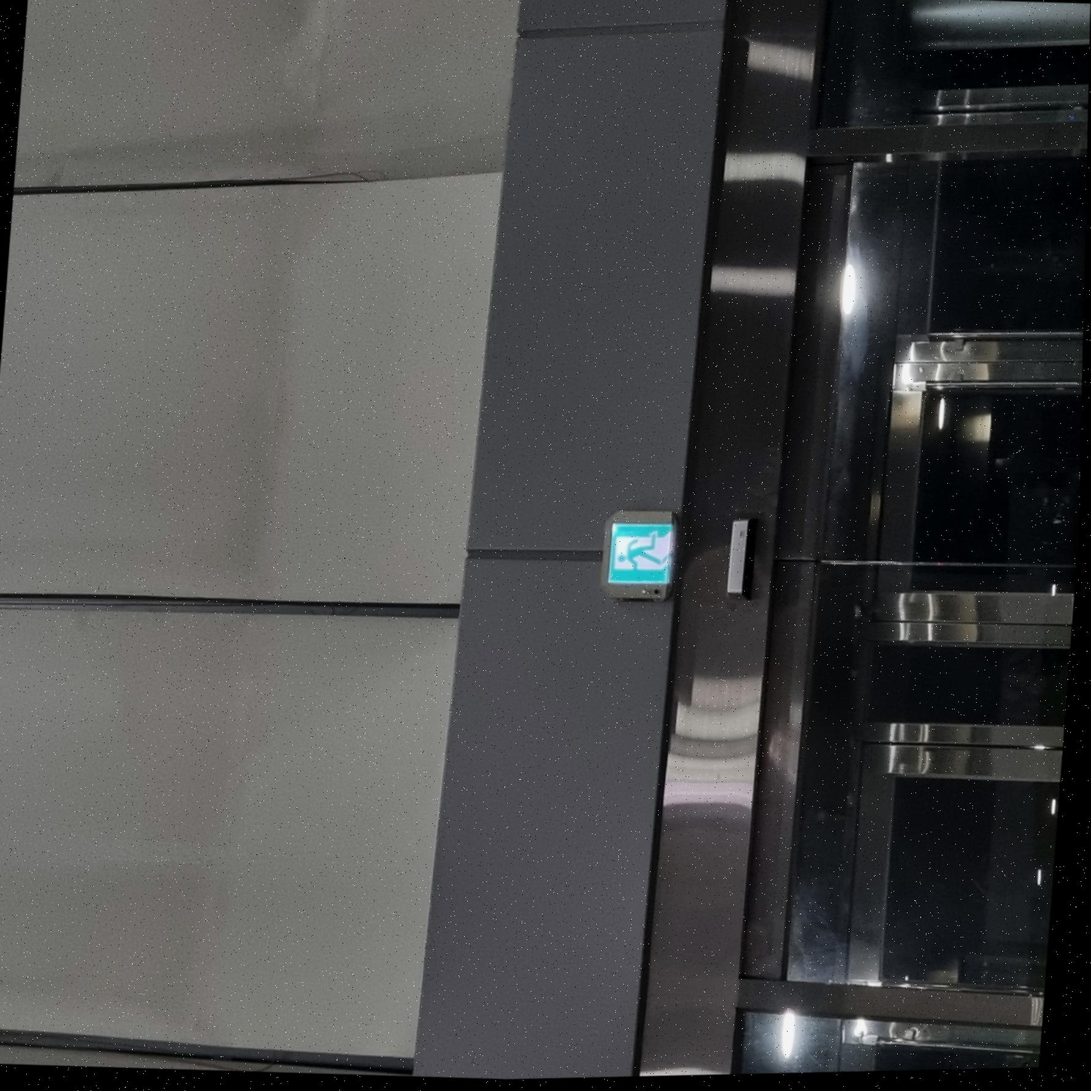emergency_exit: (601, 512, 677, 600)
